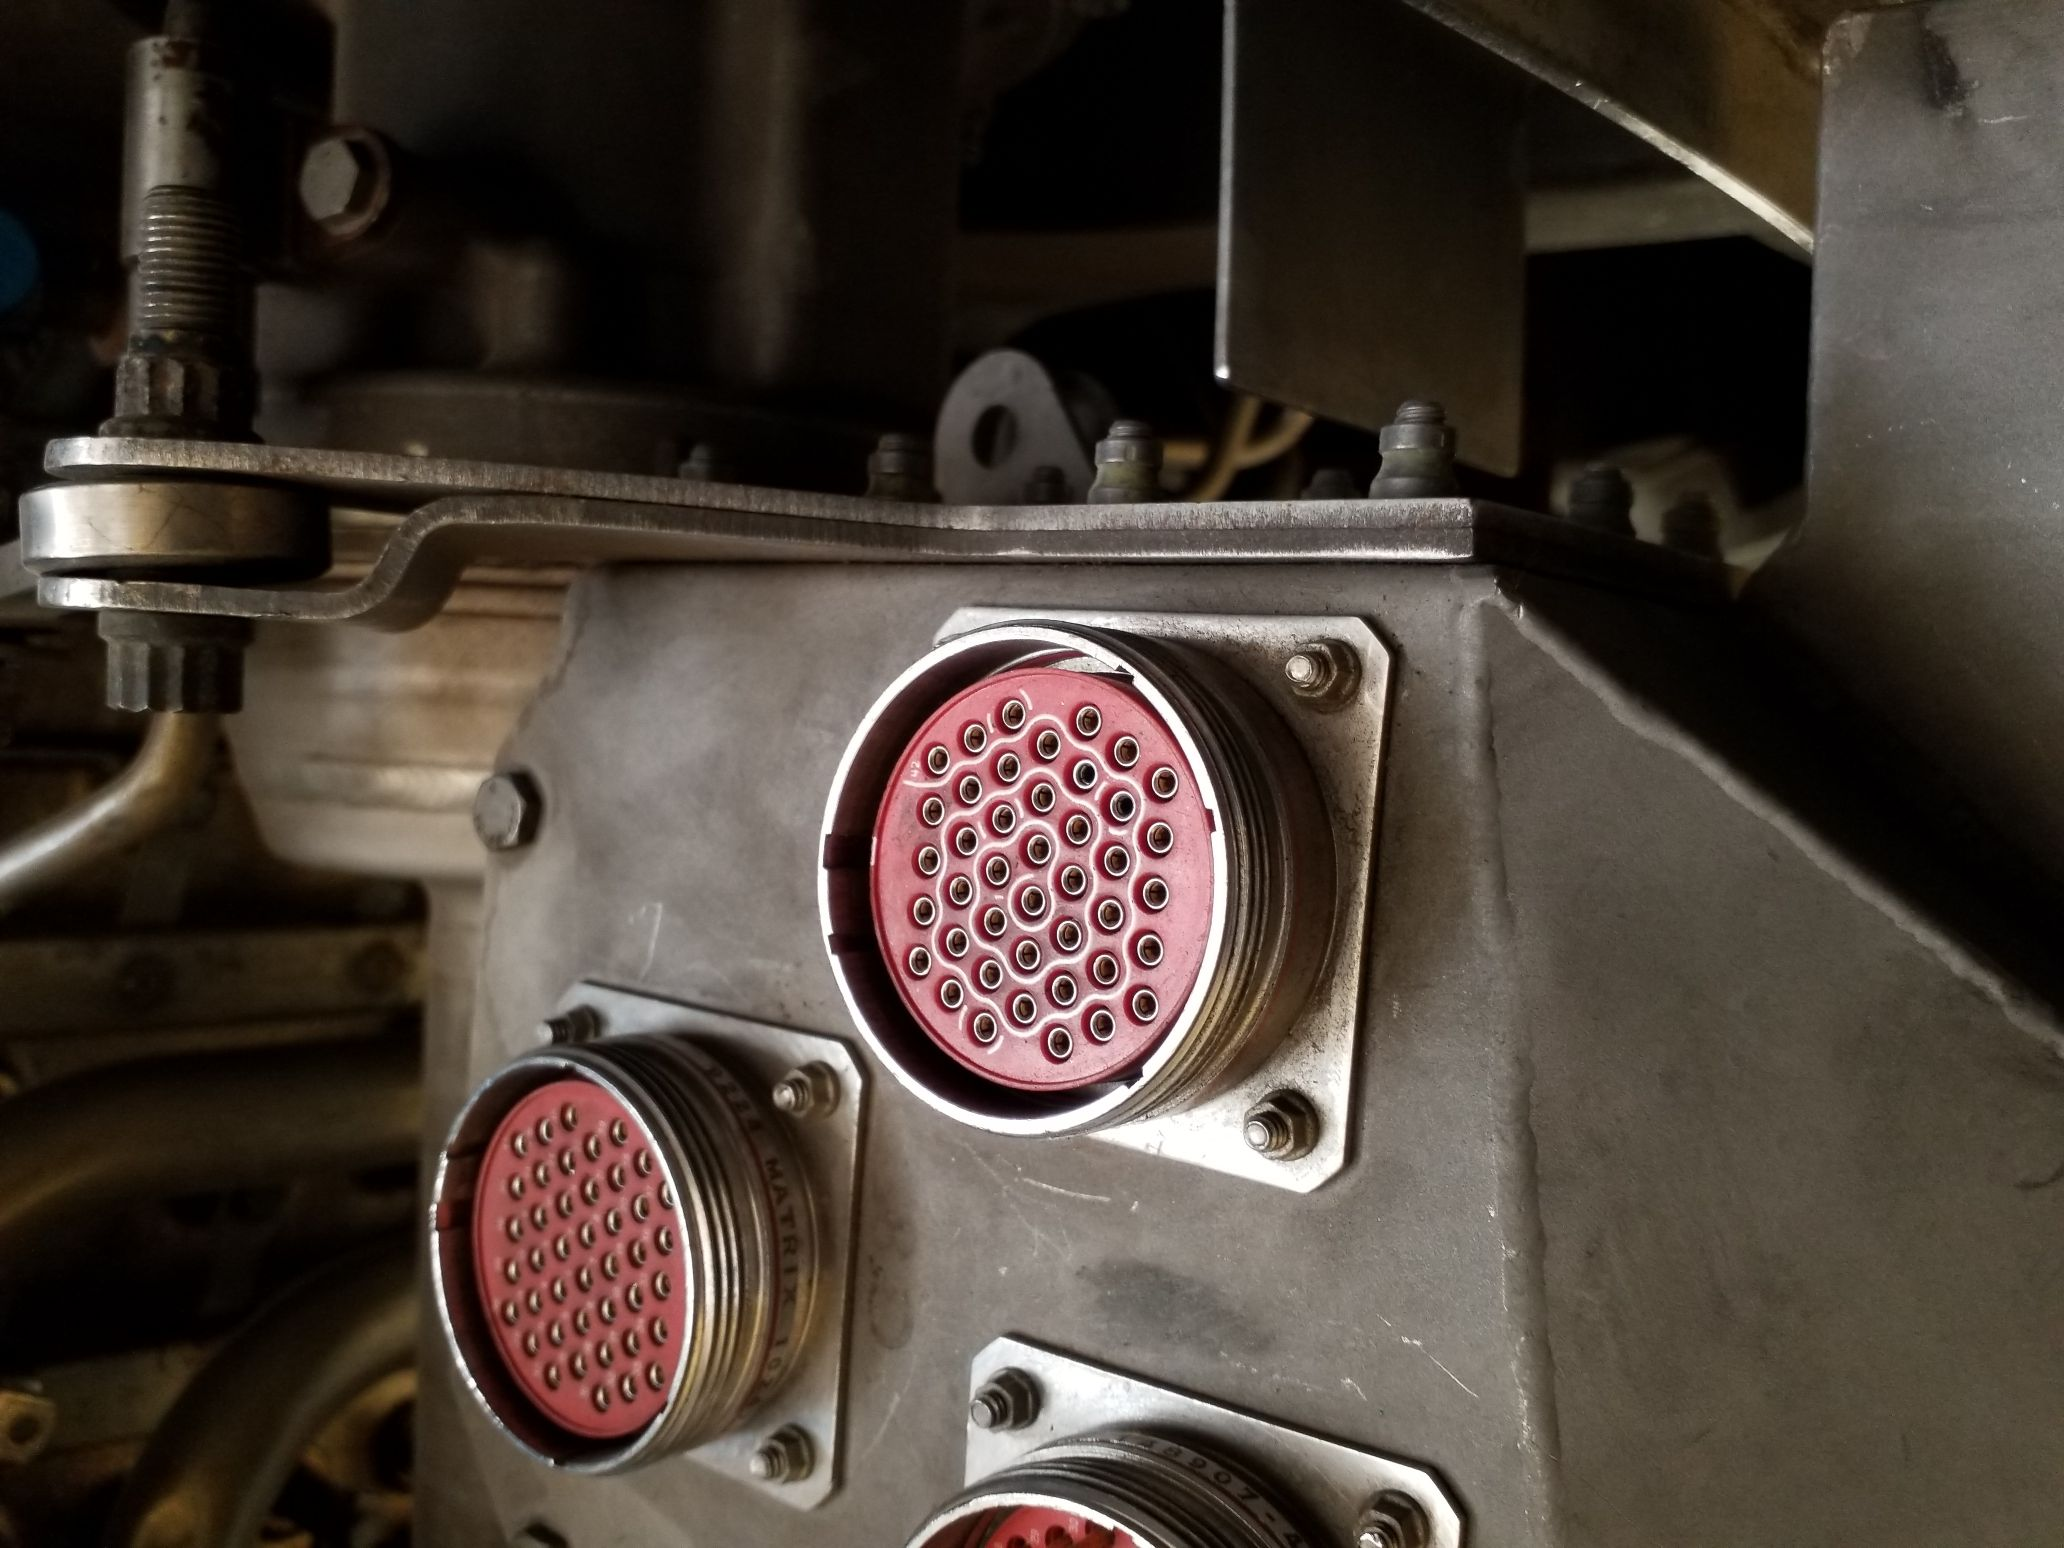inletround: (819, 620, 1284, 1130)
